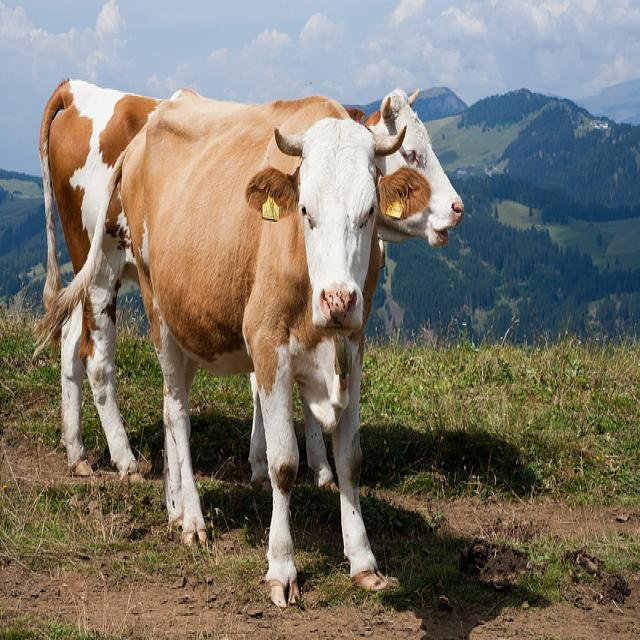cow: (31, 85, 433, 616), (38, 78, 463, 484)
